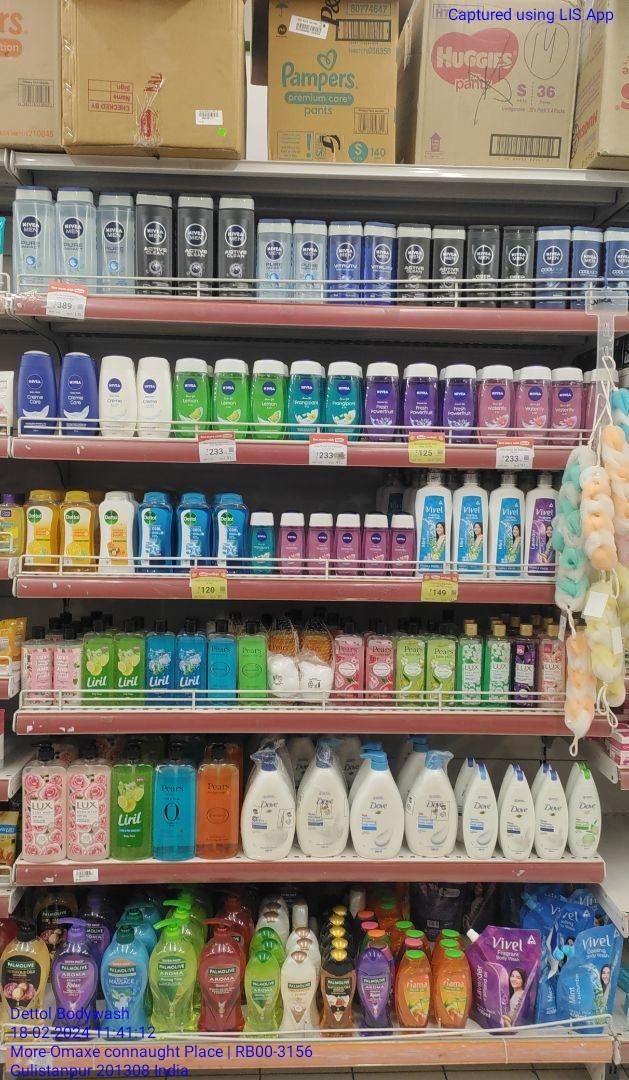Dettol_Bodywash_Cool: (137, 491, 176, 574), (215, 494, 248, 573), (179, 492, 212, 563)
Dettol_Bodywash_Refresh: (23, 491, 59, 571), (62, 492, 96, 571)
Dettol_Nourish_Body_Wash_250ML: (99, 489, 132, 570)
Dove_Deep_Moisture_Body_Wash_250ML: (536, 766, 570, 859), (501, 766, 534, 861)
Dove_Gentle_Exfoliating_Body_Wash_250ML: (466, 767, 499, 858)
Dove_Refreshing_Body_Wash_250ML: (571, 766, 603, 859)
Fiama_Shower_Gel_Peach_and_Avocado_250ML: (434, 950, 470, 1030), (397, 950, 431, 1031)
Liril_Cooling_Mint_Body_Wash_250ML: (177, 618, 207, 707), (146, 619, 175, 707)
Liril_Lime_and_Tea_Tree_Oil_Body_Wash_250ML: (114, 616, 145, 706), (83, 615, 113, 707)
Lux_Black_Orchid_Scent_and_Juniper_Oil_Body_Wash_245ML: (512, 622, 536, 710)
Lux_Body_Wash_Skin_Detox_Freesia_Scent_and_Alove_Vera_245ML: (457, 621, 482, 706), (483, 623, 508, 708)
Nivea_Creme_Care_Body_Wash_250ML: (17, 353, 55, 438), (60, 353, 99, 433)
Nivea_Creme_Soft_Body_Wash_250ML: (101, 355, 137, 438), (137, 357, 172, 439)
Nivea_Shower_Gel_Frangipani_and_Oil_250ML: (287, 359, 322, 441), (326, 360, 357, 439)
Nivea_Shower_Gel_Fresh_Powerfruit_250ML: (443, 364, 478, 443), (364, 363, 398, 441), (402, 365, 437, 438)
Nivea_Shower_Gel_Lemon_and_Oil_250ML: (212, 358, 249, 440), (174, 358, 208, 436), (253, 358, 285, 440)
Nivea_Shower_Gel_Waterlily_and_Oil_250ML: (479, 365, 513, 444), (515, 366, 549, 445), (552, 367, 583, 446)
Palmolive_Aroma_Morning_Tonic_Shower_Gel_250ML: (245, 954, 279, 1039)
Palmolive_Aroma_Relax_250ML: (356, 949, 393, 1035)
Palmolive_Coconut_Joy_Exfoliating_Body_Wash_250ML: (281, 951, 315, 1038)
Palmolive_Luminous_Oils_With_White_Orchid_Shower_Gel_250ML: (321, 950, 354, 1037)
Pears_Naturale_Aloe_Vera_Body_Wash_250ML: (392, 625, 425, 709), (427, 625, 456, 705)
Pears_Pure_Glycerin_and_Lemon_Flower_Extracts_Body_Wash_250ML: (236, 618, 266, 705)
Pears_Pure_Glycerin_and_Mint_Extracts_Body_Wash_250ML: (207, 618, 237, 704)
